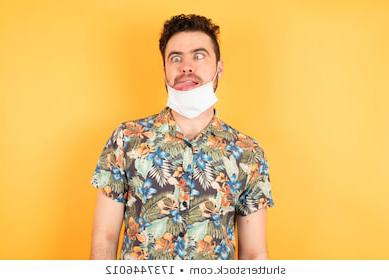mask_weared_incorrect: (164, 38, 217, 113)
